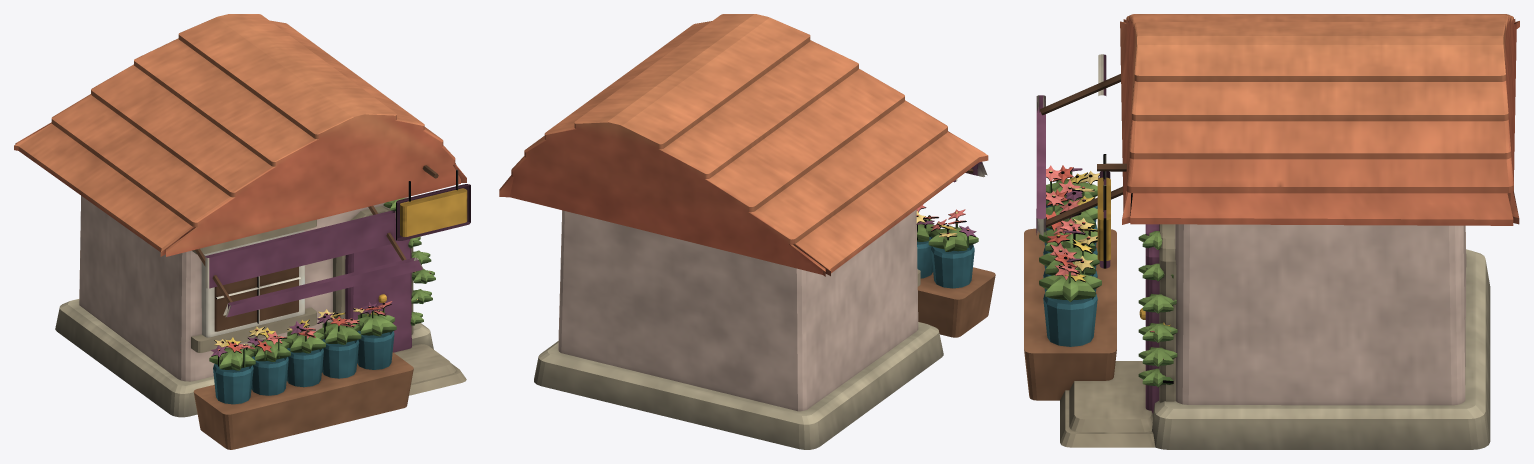
The model's file is flower_shop.glb.
3 views of the same model, side by side, from view 1: azimuth 30°, elevation 25°; view 2: azimuth 150°, elevation 25°; view 3: azimuth 270°, elevation 25° (orthographic). The views are drawn at different scales.
Visible parts, largest first — view 1: FlowerShop; view 2: FlowerShop; view 3: FlowerShop.
Part boxes in pixels (bbox=[...]): FlowerShop: bbox=[14, 14, 470, 449]; FlowerShop: bbox=[499, 14, 995, 449]; FlowerShop: bbox=[1024, 14, 1519, 449].
Bounding box in the file's own units: 3.58 × 2.94 × 3.73.
Materials: 1 (1 with a texture image).
